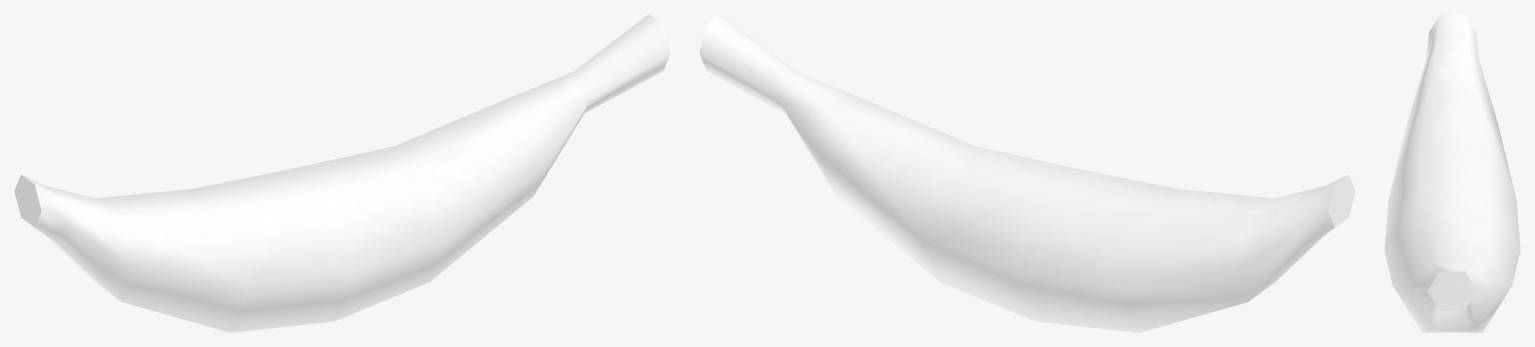
File: banana.glb
The picture shows the model from 3 angles, left to right: view 1: azimuth 30°, elevation 25°; view 2: azimuth 150°, elevation 25°; view 3: azimuth 270°, elevation 25°; orthographic projection. The views are drawn at different scales.
Parts seen in each view (by area): view 1: banana; view 2: banana; view 3: banana.
Part boxes in pixels (box(x1,y1,x2,y2)): banana: box(14, 14, 670, 332); banana: box(699, 14, 1355, 332); banana: box(1384, 14, 1520, 332).
Bounding box in the file's own units: 0.234 × 0.0727 × 0.0511.
Materials: 1 (1 with a texture image).
